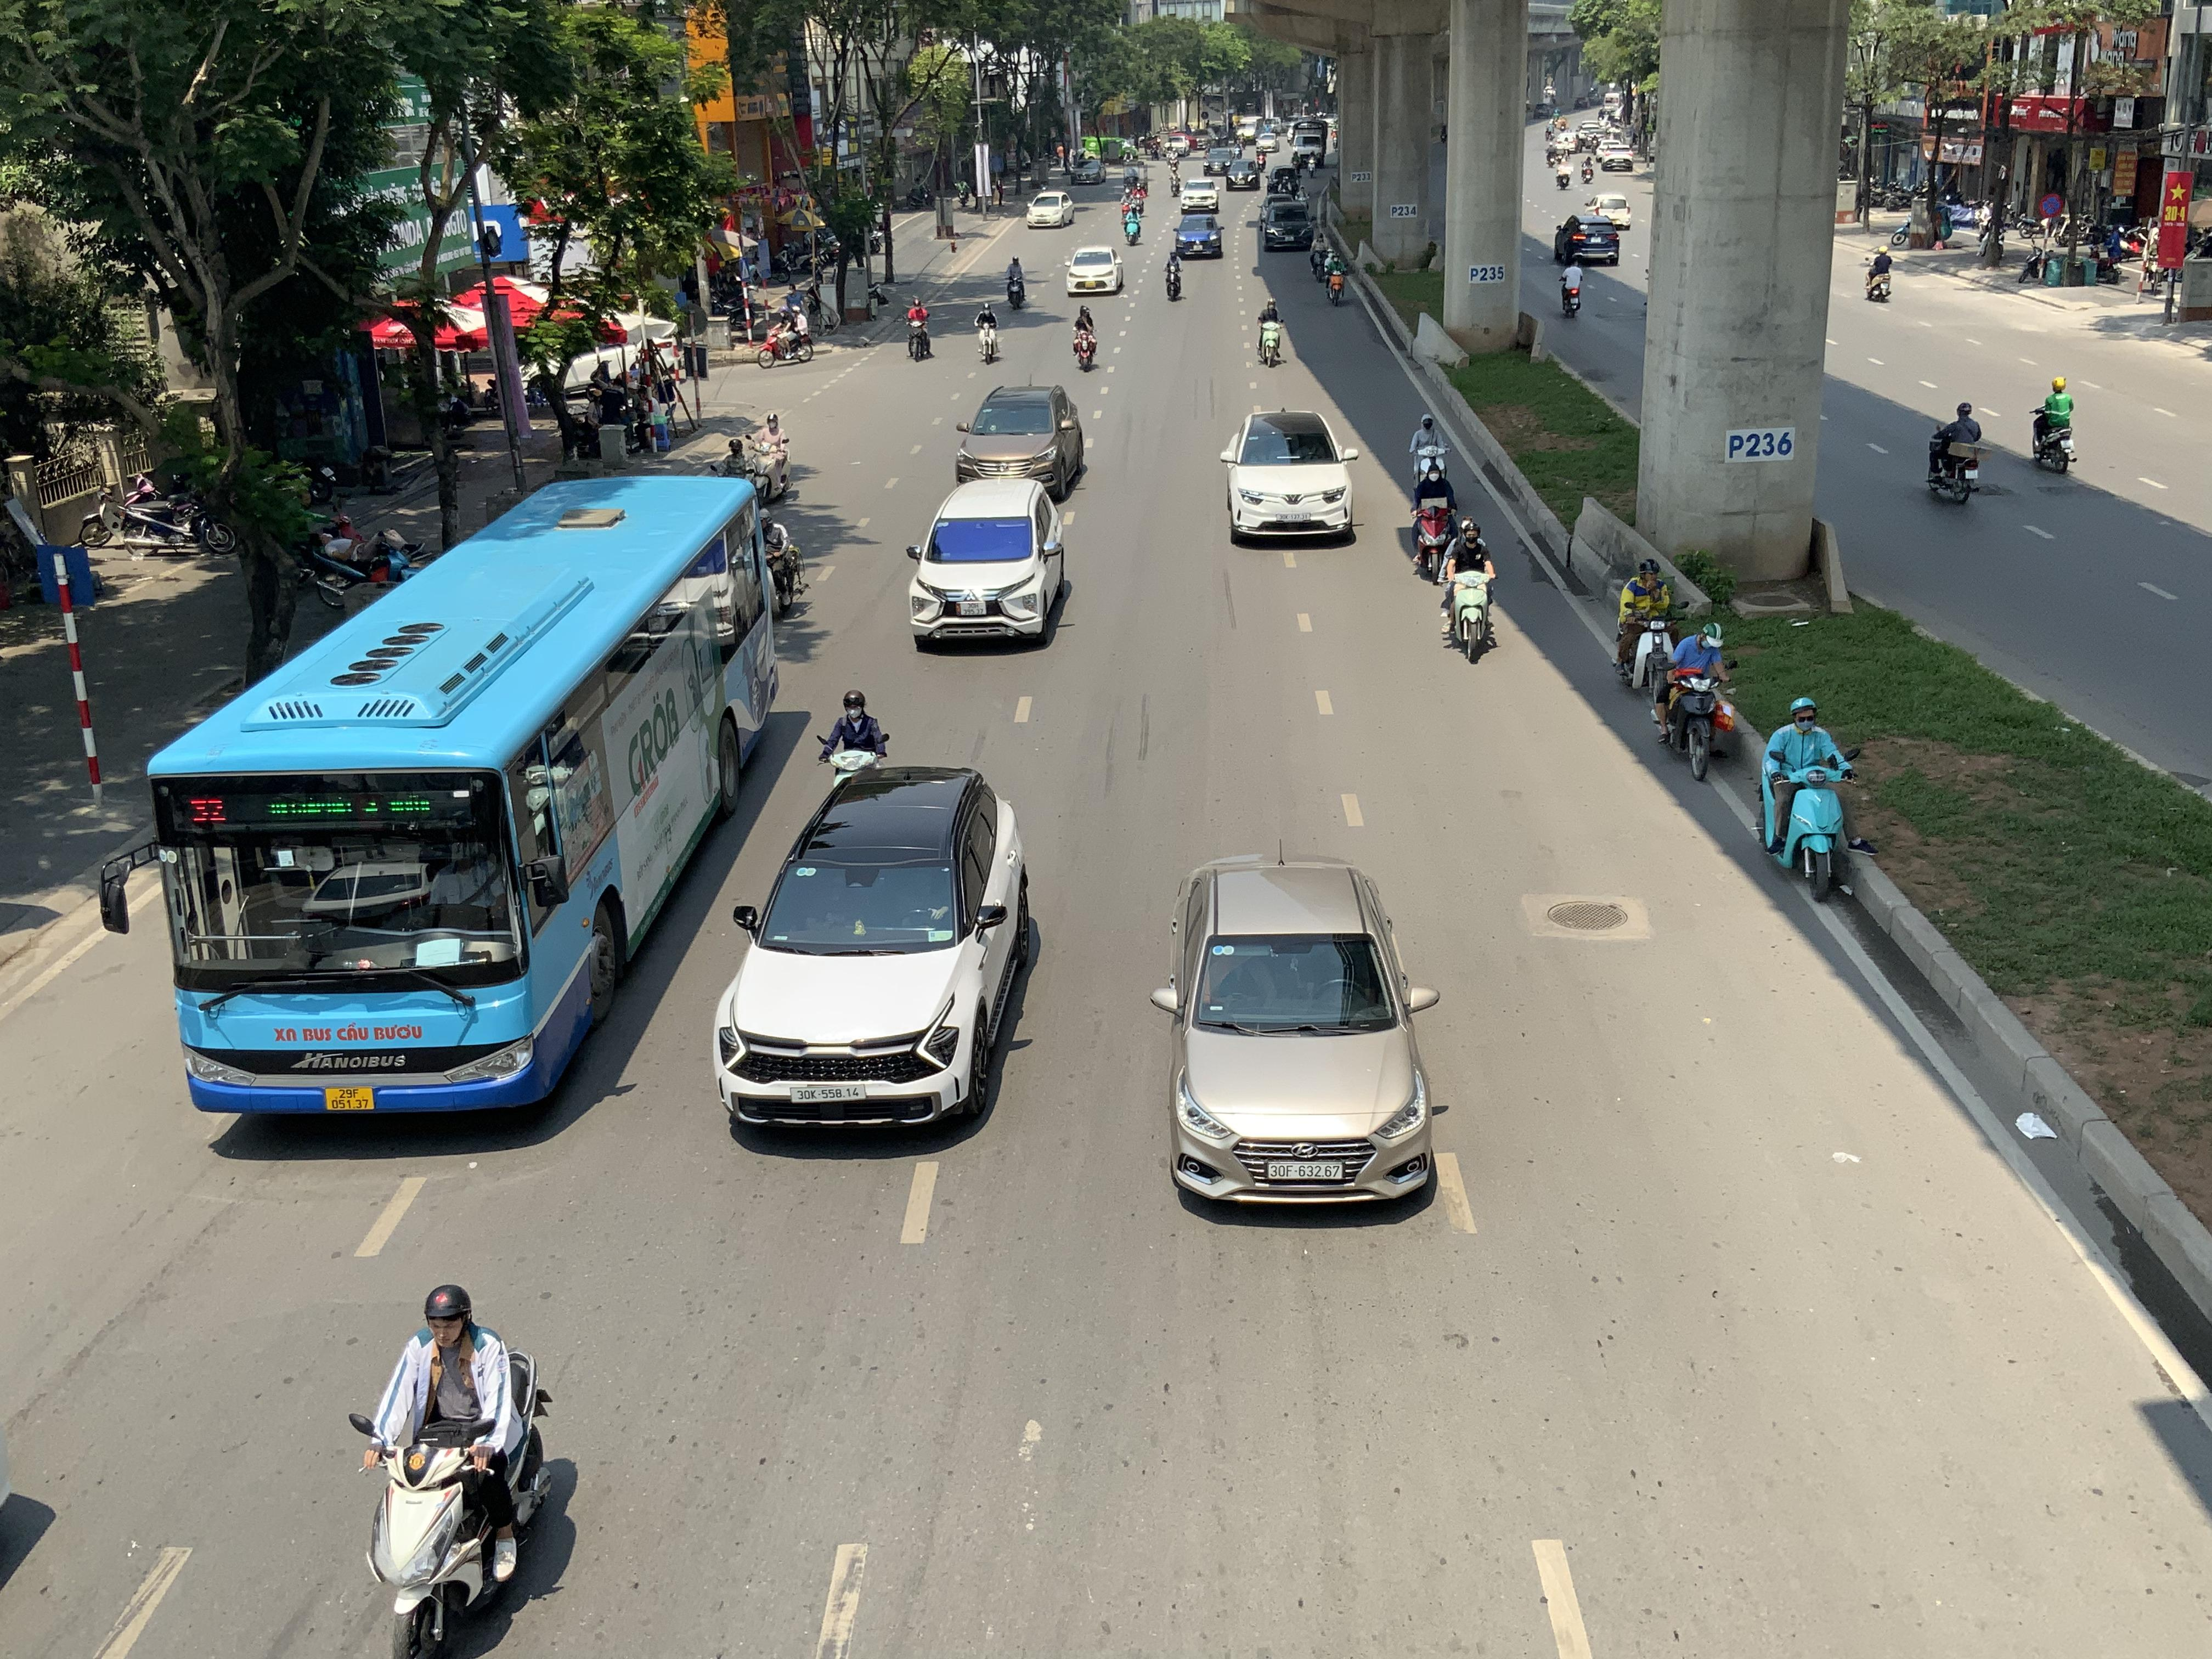BSD: (789, 1082, 867, 1103), (1266, 1161, 1343, 1180), (1277, 512, 1312, 521)
BSV: (326, 1087, 374, 1110), (956, 601, 988, 615)
bus: (145, 467, 782, 1119)
car: (714, 758, 1045, 1138), (1150, 854, 1446, 1215), (906, 474, 1071, 650), (1219, 410, 1357, 547), (953, 383, 1089, 498), (1554, 213, 1622, 265), (1064, 244, 1125, 296), (1259, 199, 1315, 251), (1172, 211, 1223, 258), (1024, 190, 1075, 227), (1179, 178, 1219, 213), (1226, 160, 1261, 192)
motorbike: (350, 1283, 564, 1659), (1759, 695, 1864, 903), (1653, 613, 1738, 782), (111, 458, 218, 551), (1615, 556, 1681, 695), (1439, 518, 1498, 664), (1404, 458, 1461, 582), (1926, 399, 1984, 505), (763, 514, 810, 617), (742, 411, 794, 504), (2029, 376, 2078, 472), (559, 380, 603, 464), (758, 303, 813, 368), (1407, 410, 1451, 484), (1256, 296, 1287, 368), (1864, 239, 1893, 303), (1071, 303, 1099, 371), (904, 298, 934, 361), (1557, 253, 1585, 317), (974, 300, 1001, 362), (1322, 247, 1348, 307), (1003, 253, 1028, 310), (1308, 232, 1331, 282), (1165, 246, 1186, 300), (1123, 204, 1143, 246), (1120, 188, 1134, 225), (1132, 183, 1146, 214)
truck: (1289, 119, 1329, 169)
